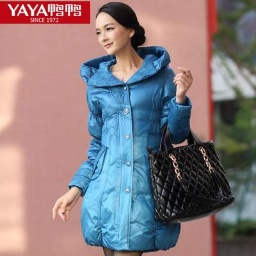face: (90, 1, 153, 58)
